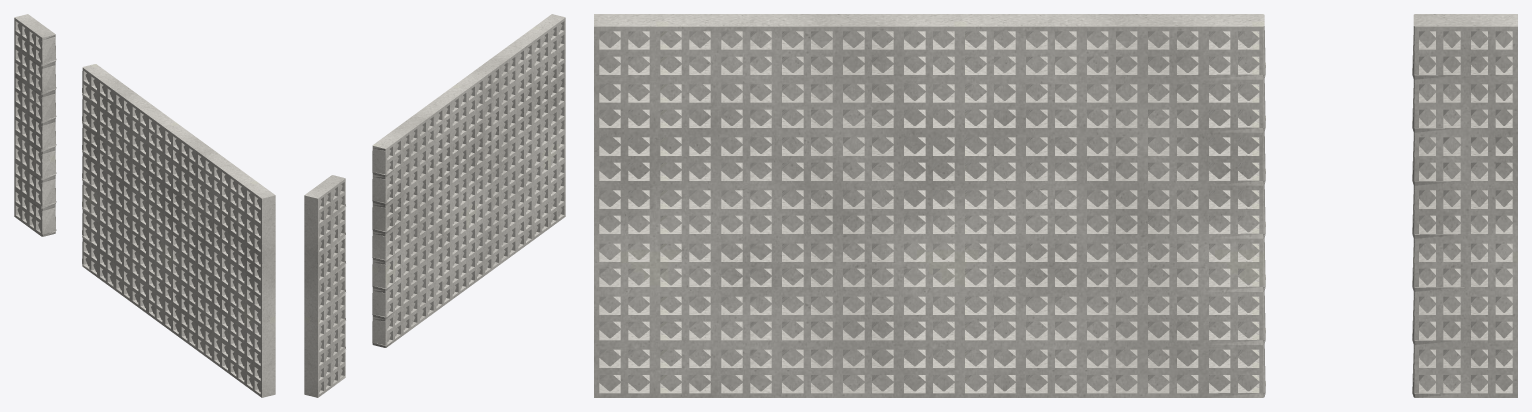
Rendered from carport_screen.glb.
3 views of the same model, side by side, from view 1: azimuth 30°, elevation 25°; view 2: azimuth 150°, elevation 25°; view 3: azimuth 270°, elevation 25° (orthographic). The views are drawn at different scales.
Visible parts, largest first — view 1: carport_screen_block; view 2: carport_screen_block; view 3: carport_screen_block.
Boxes of the visible parts, <box> form: carport_screen_block: <box>14,14,275,397</box>; carport_screen_block: <box>304,14,565,397</box>; carport_screen_block: <box>594,14,1517,397</box>.
Size of the model in its own units: 0.2141 by 2.75 by 6.2.
Materials: 1 (1 with a texture image).
